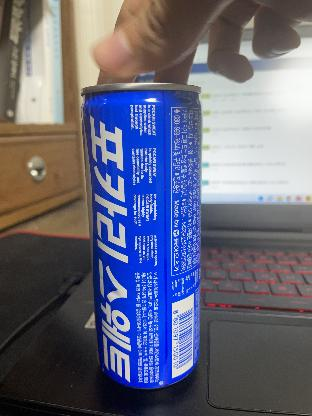Can: (80, 79, 204, 395)
